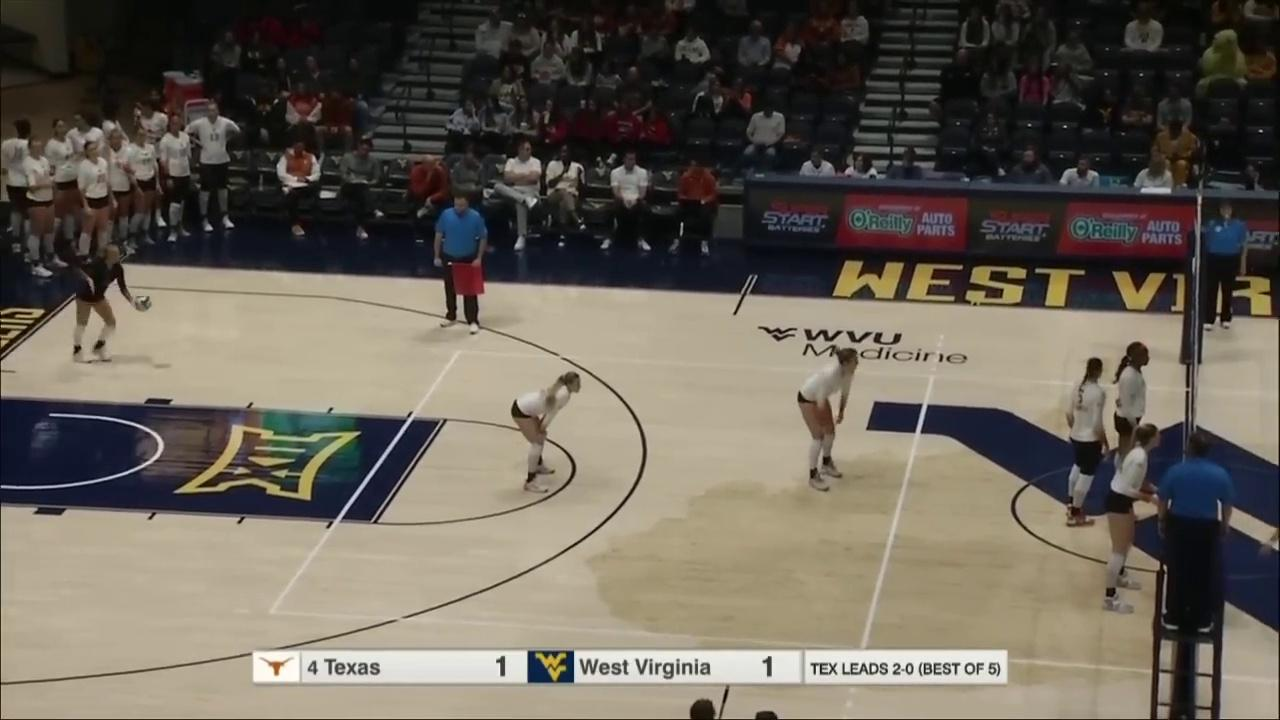player: (1101, 425, 1162, 616), (512, 374, 578, 495), (799, 354, 857, 489), (1066, 357, 1108, 525), (1113, 340, 1150, 504), (76, 241, 123, 369)
refree: (1163, 433, 1224, 629), (435, 196, 488, 333), (1204, 201, 1242, 329)
